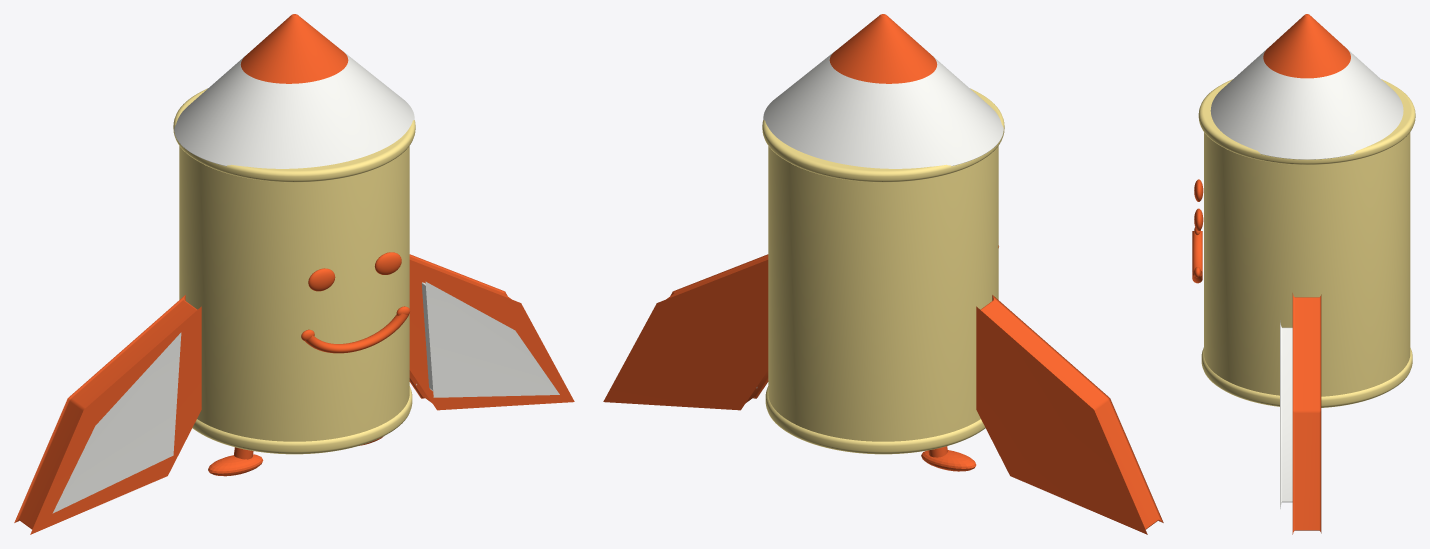
File: hellotore_kun.glb
3 views of the same model, side by side, from view 1: azimuth 30°, elevation 25°; view 2: azimuth 150°, elevation 25°; view 3: azimuth 270°, elevation 25° (orthographic). The views are drawn at different scales.
Parts seen in each view (by area): view 1: HTK_PencilFix_CylindricalBody_Red, HTK_PencilFix_PencilHead_WhiteCone, HTK_LeftWing_Red, HTK_RightWing_White, HTK_LeftWing_White, HTK_RightWing_Red, HTK_PencilFix_PencilTip_RedCone, HTK_PencilFix_TopBodyRing_Red, HTK_PencilFix_BottomBodyRing_Red, HTK_PencilFix_Smile_Red, HTK_Foot_Left; view 2: HTK_PencilFix_CylindricalBody_Red, HTK_LeftWing_Red, HTK_PencilFix_PencilHead_WhiteCone, HTK_RightWing_Red, HTK_PencilFix_PencilTip_RedCone, HTK_PencilFix_TopBodyRing_Red, HTK_PencilFix_BottomBodyRing_Red, HTK_Foot_Left; view 3: HTK_PencilFix_CylindricalBody_Red, HTK_PencilFix_PencilHead_WhiteCone, HTK_RightWing_Red, HTK_PencilFix_PencilTip_RedCone, HTK_PencilFix_TopBodyRing_Red, HTK_RightWing_White, HTK_PencilFix_BottomBodyRing_Red, HTK_PencilFix_Smile_Red.
Boxes of the visible parts, box(x1,y1,x2,y2) form: HTK_PencilFix_CylindricalBody_Red: box(179, 146, 409, 441); HTK_PencilFix_PencilHead_WhiteCone: box(174, 52, 414, 168); HTK_LeftWing_Red: box(14, 295, 201, 534); HTK_RightWing_White: box(416, 281, 559, 397); HTK_LeftWing_White: box(52, 332, 181, 513); HTK_RightWing_Red: box(409, 254, 574, 410); HTK_PencilFix_PencilTip_RedCone: box(240, 14, 348, 83); HTK_PencilFix_TopBodyRing_Red: box(173, 88, 415, 182); HTK_PencilFix_BottomBodyRing_Red: box(192, 386, 412, 454); HTK_PencilFix_Smile_Red: box(304, 313, 408, 353); HTK_Foot_Left: box(208, 454, 263, 476); HTK_PencilFix_CylindricalBody_Red: box(768, 146, 998, 441); HTK_LeftWing_Red: box(976, 295, 1163, 534); HTK_PencilFix_PencilHead_WhiteCone: box(763, 52, 1003, 168); HTK_RightWing_Red: box(603, 254, 768, 410); HTK_PencilFix_PencilTip_RedCone: box(829, 14, 937, 83); HTK_PencilFix_TopBodyRing_Red: box(762, 88, 1004, 182); HTK_PencilFix_BottomBodyRing_Red: box(765, 386, 985, 454); HTK_Foot_Left: box(921, 450, 976, 471); HTK_PencilFix_CylindricalBody_Red: box(1204, 132, 1410, 396); HTK_PencilFix_PencilHead_WhiteCone: box(1210, 48, 1403, 159); HTK_RightWing_Red: box(1292, 293, 1321, 534); HTK_PencilFix_PencilTip_RedCone: box(1263, 14, 1350, 78); HTK_PencilFix_TopBodyRing_Red: box(1198, 79, 1415, 164); HTK_RightWing_White: box(1280, 320, 1292, 508); HTK_PencilFix_BottomBodyRing_Red: box(1201, 347, 1412, 407); HTK_PencilFix_Smile_Red: box(1192, 231, 1202, 283).
Size of the model in its own units: 6.69 by 5.26 by 2.65.
